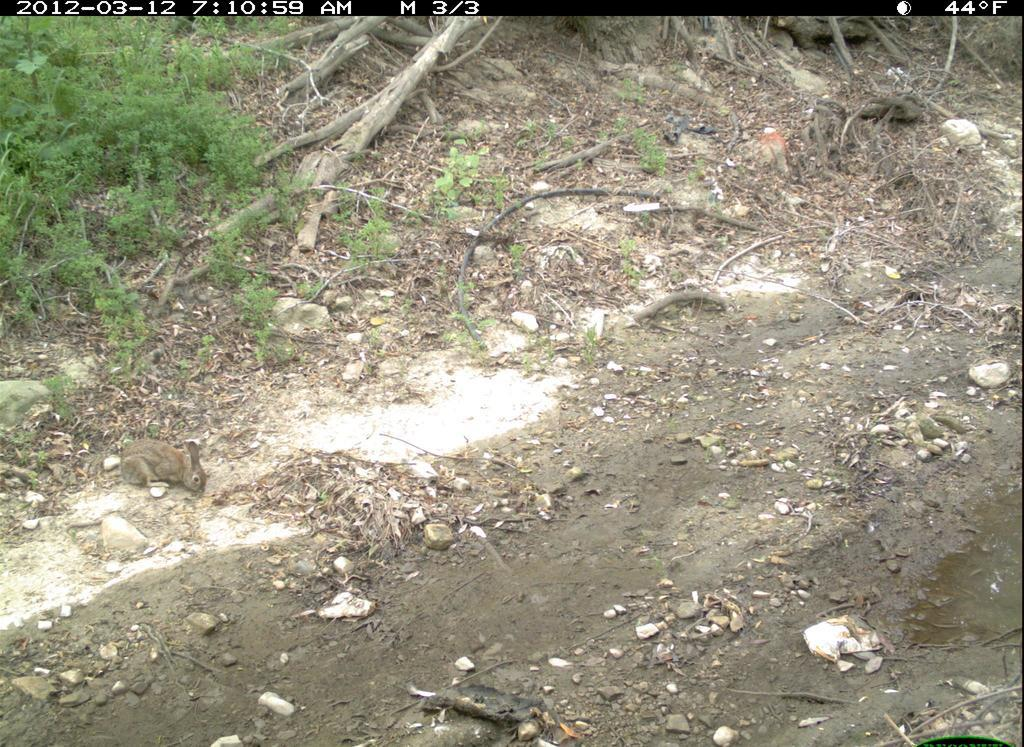rabbit: (117, 427, 219, 519)
